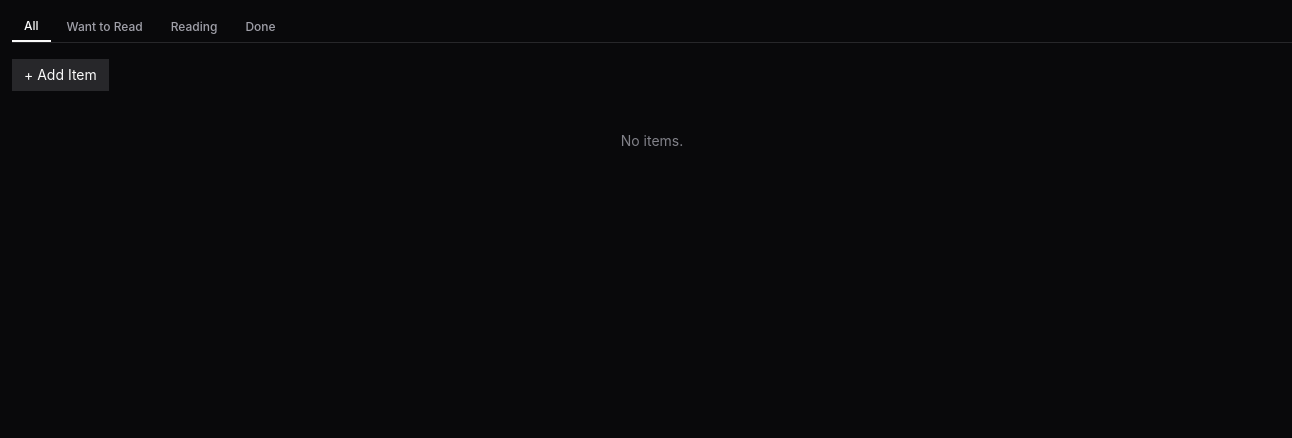
it: ReadingList › adds an item via form
Click the button "+ Add Item". click: {"x": 60, "y": 75}
box: [12, 59, 109, 91]
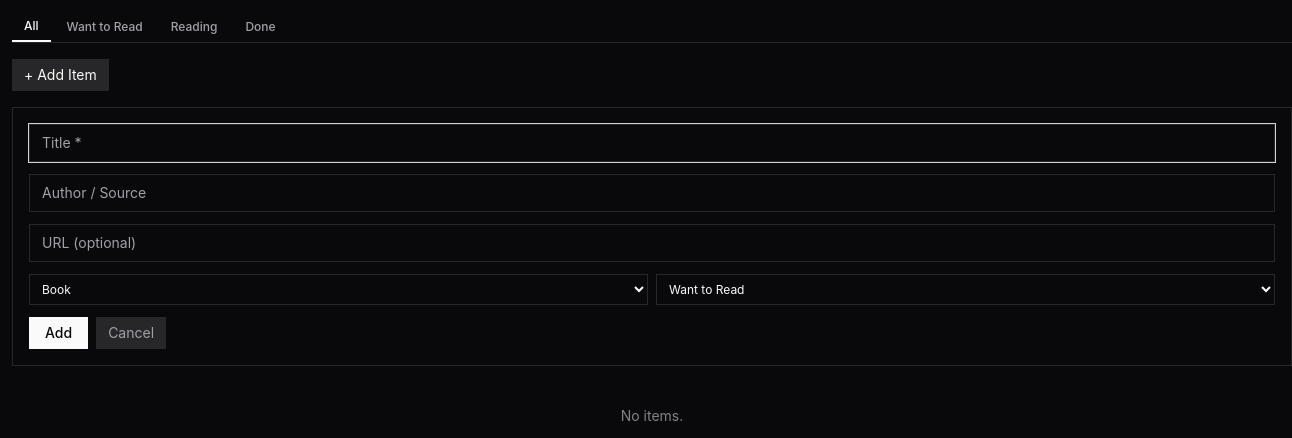
Type "Test Book" into the field with placeholder "Title *". click: {"x": 652, "y": 143}
box: [29, 124, 1275, 162]
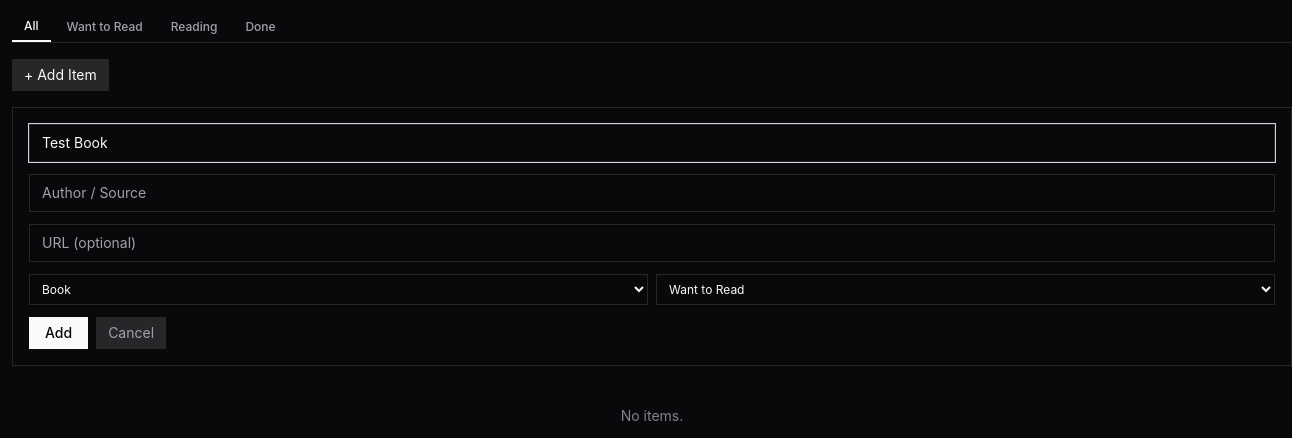
Type "Jane Doe" into the field with placeholder "Author / Source". click: {"x": 652, "y": 193}
box: [29, 174, 1275, 212]
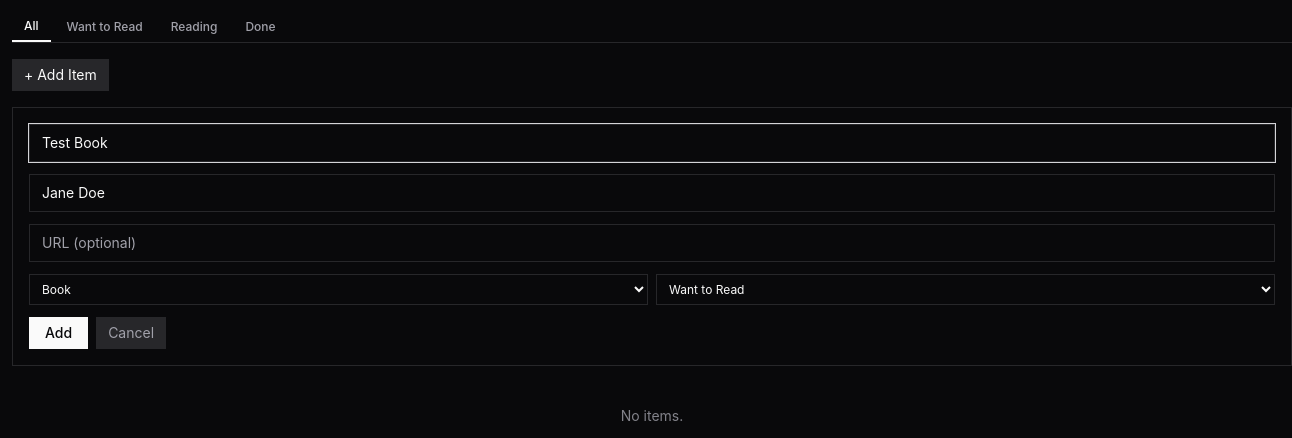
Click the button "Add". click: {"x": 59, "y": 333}
box: [29, 317, 88, 349]
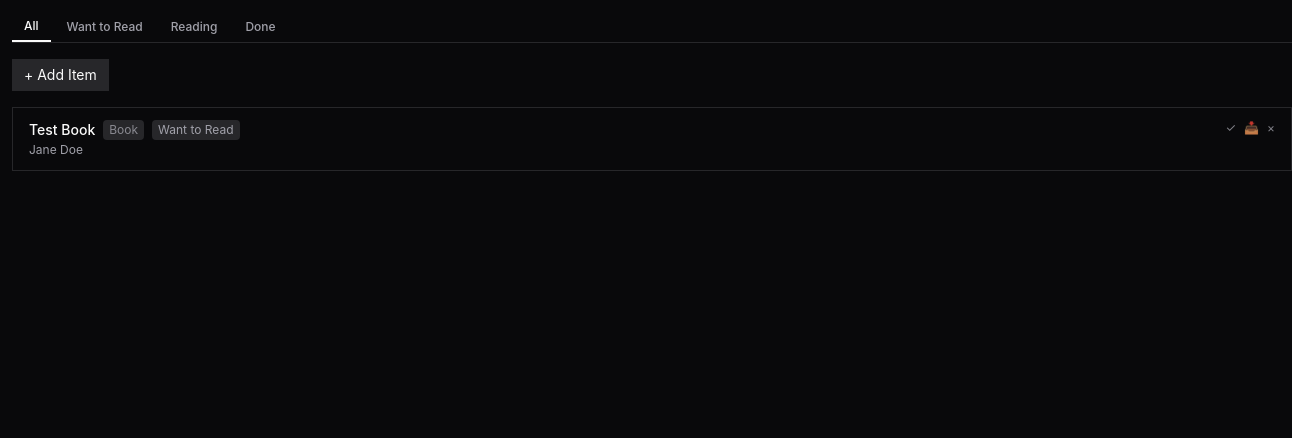
Now the text "Test Book" is shown, box [29, 120, 95, 140]
